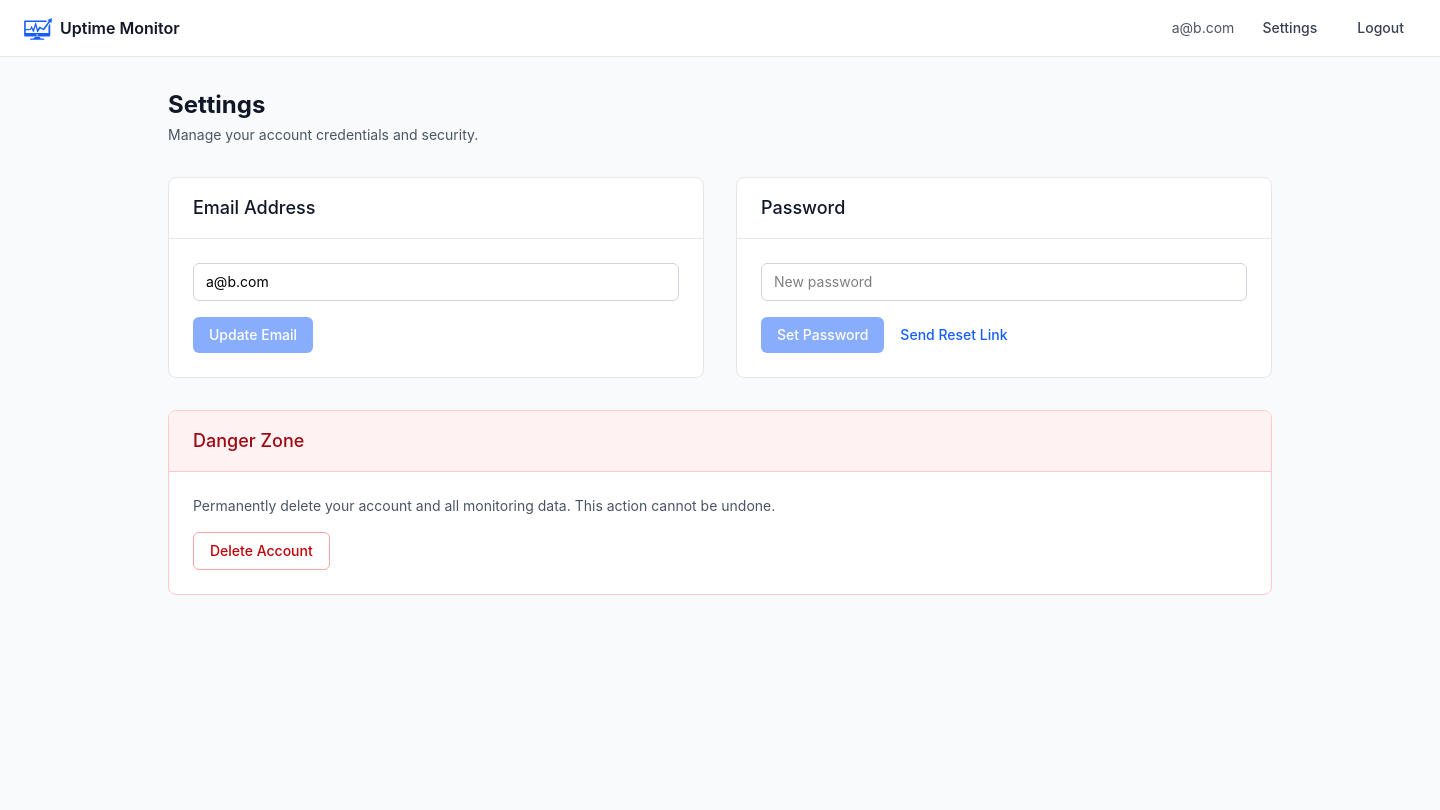
it: Settings › shows generic fallback error when non-standard error is thrown
The width and height of the screenshot is (1440, 810).
Type "pass123" into the password field with placeholder "New password" at (1004, 282), box [761,263,1247,301]
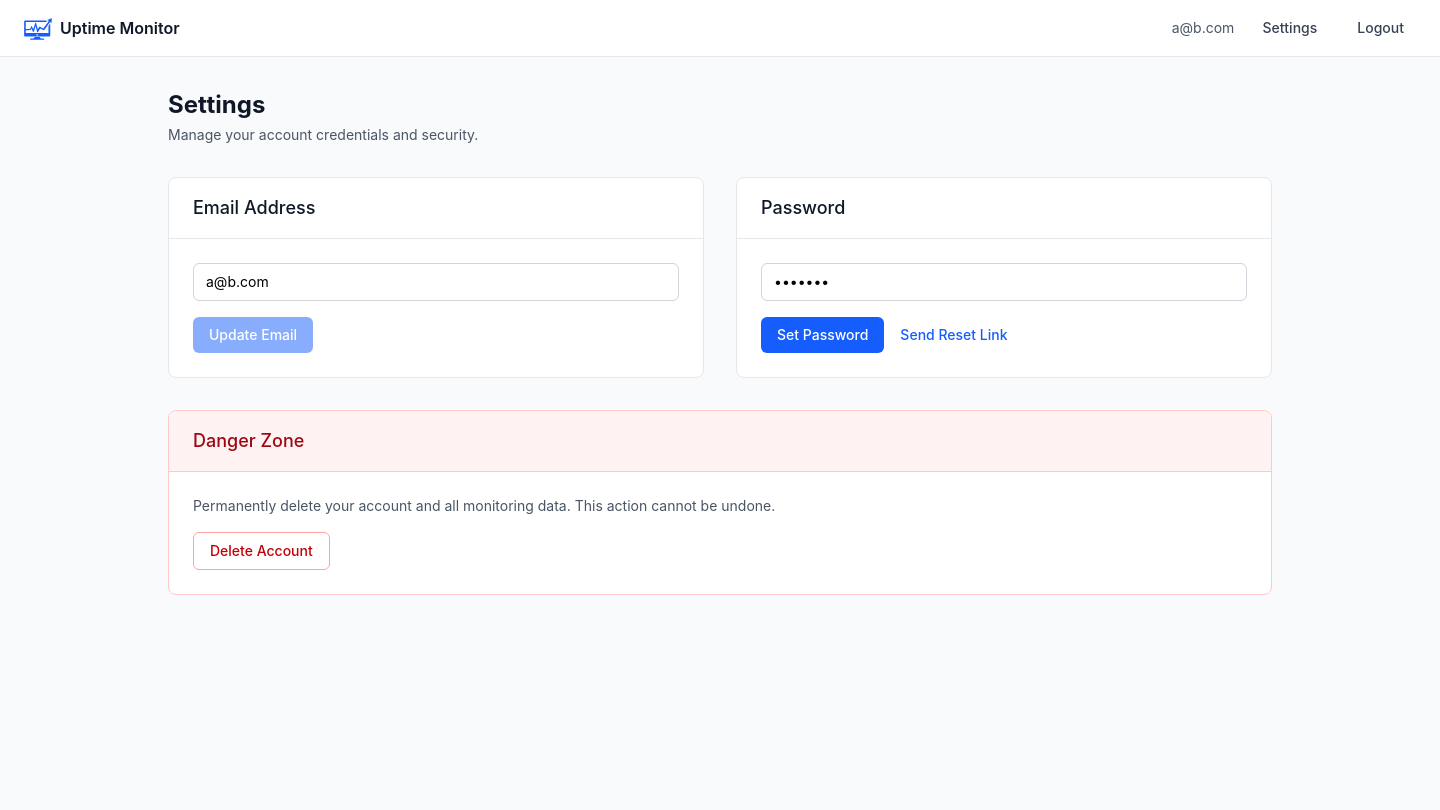
Click the button "Set Password" at (823, 335), box [761,317,884,353]
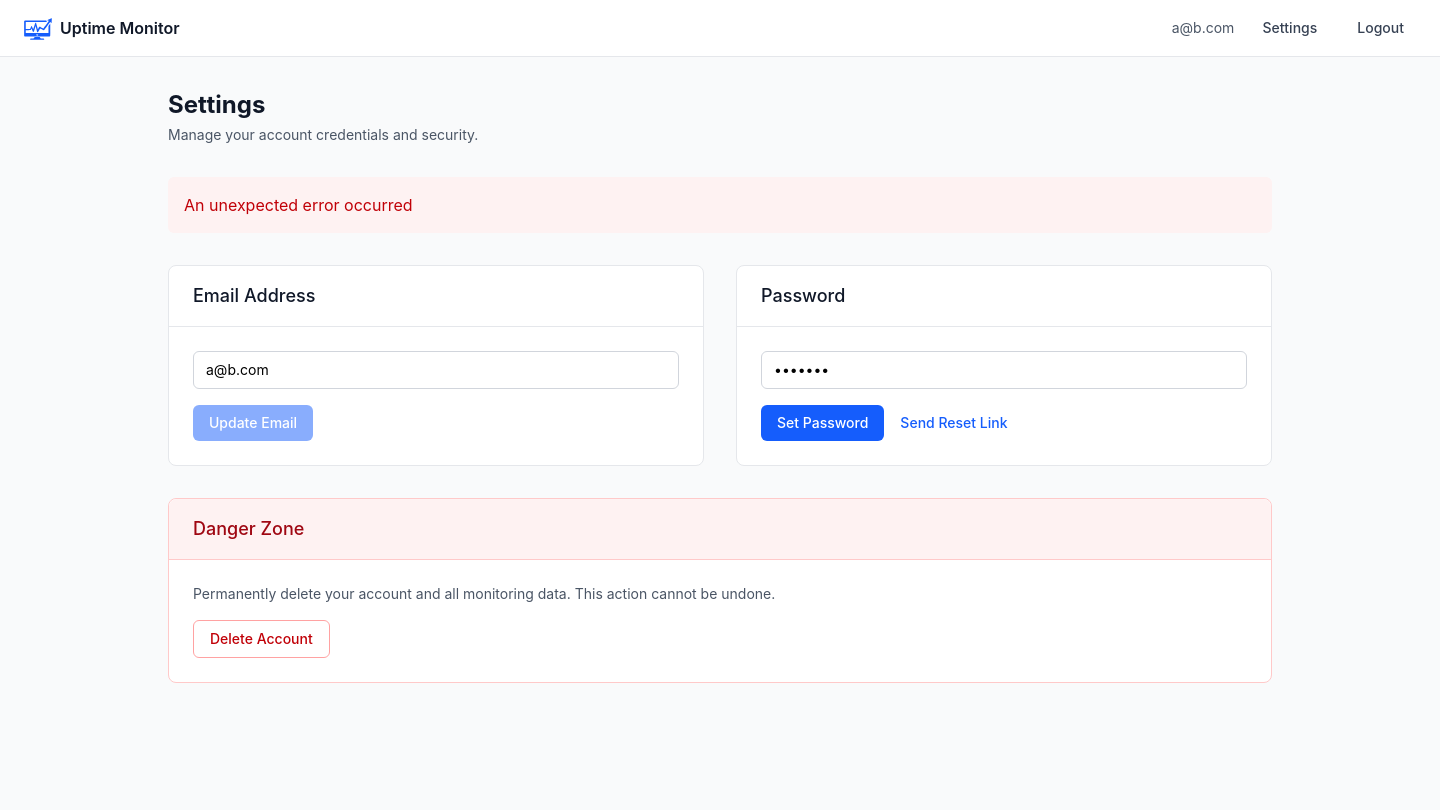
Result: the text "An unexpected error occurred" is shown at [168,177,1272,233]
